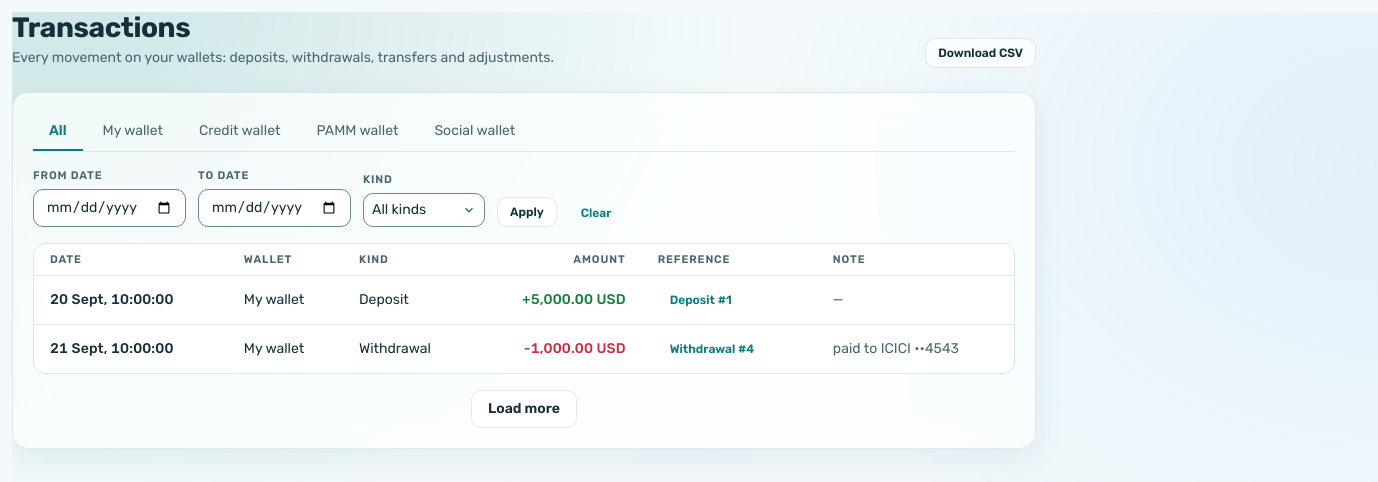
a superseded Load more never overwrites the request that came after it
Expected: the link "Deposit #1" is shown, [670, 293, 732, 307]
Click the button "Load more" at [524, 409], box [471, 390, 577, 428]
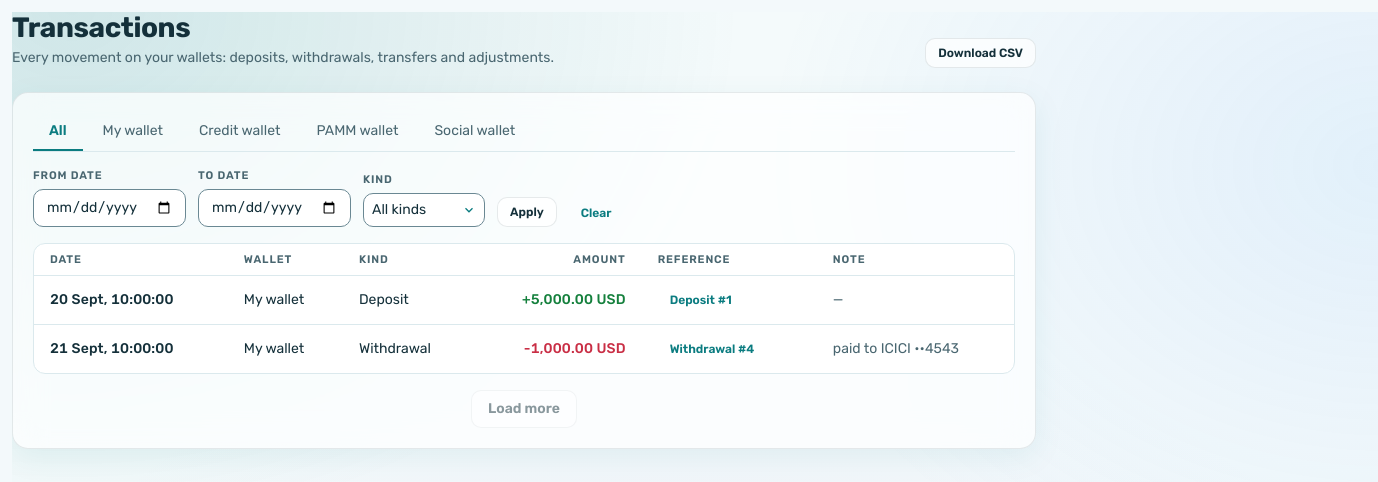
Click the tab "PAMM wallet" at [357, 132], box [300, 113, 414, 151]
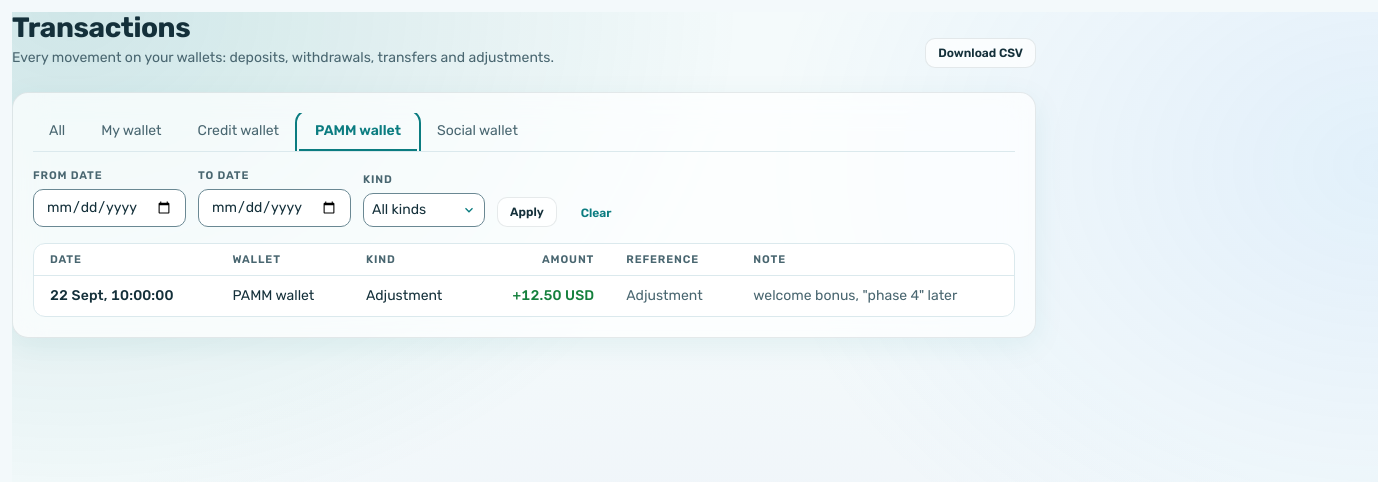
Result: the text "welcome bonus, \"phase 4\" later" is shown at [737, 276, 1014, 316]
